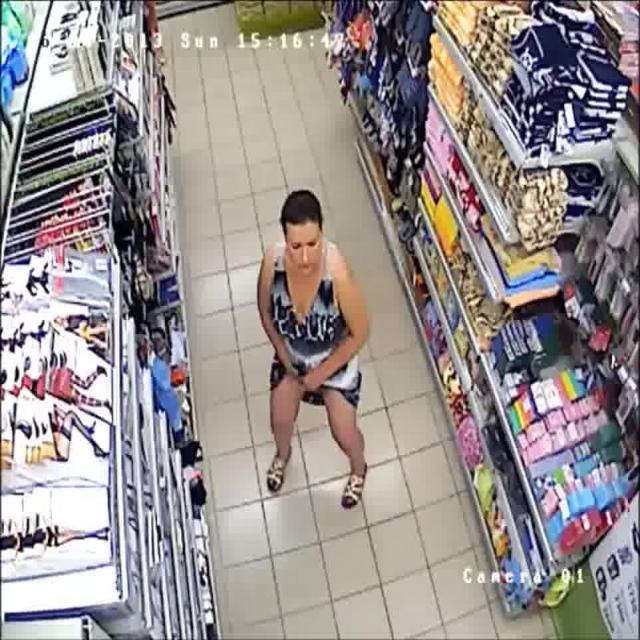persone: (257, 184, 374, 516)
